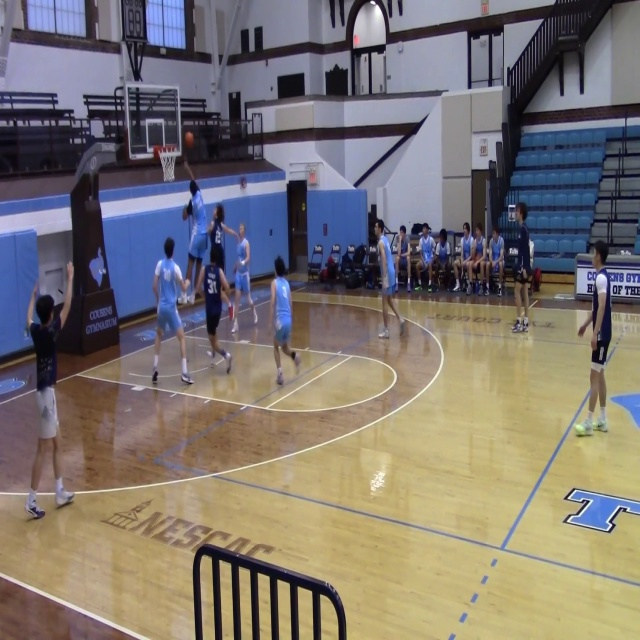Basketball: (184, 131, 194, 148)
